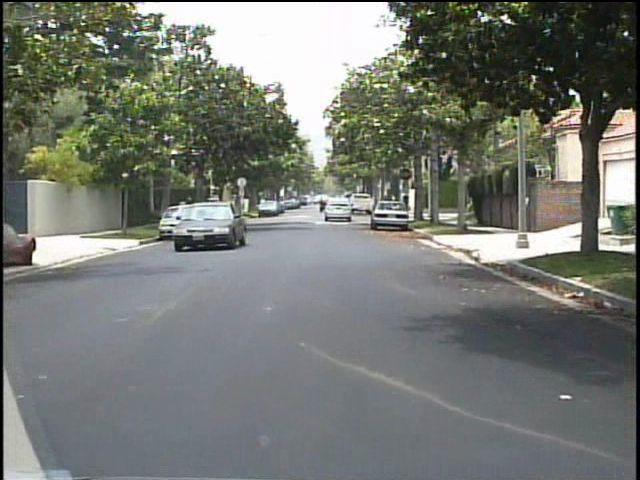person: (514, 186, 533, 238), (174, 195, 190, 230)
